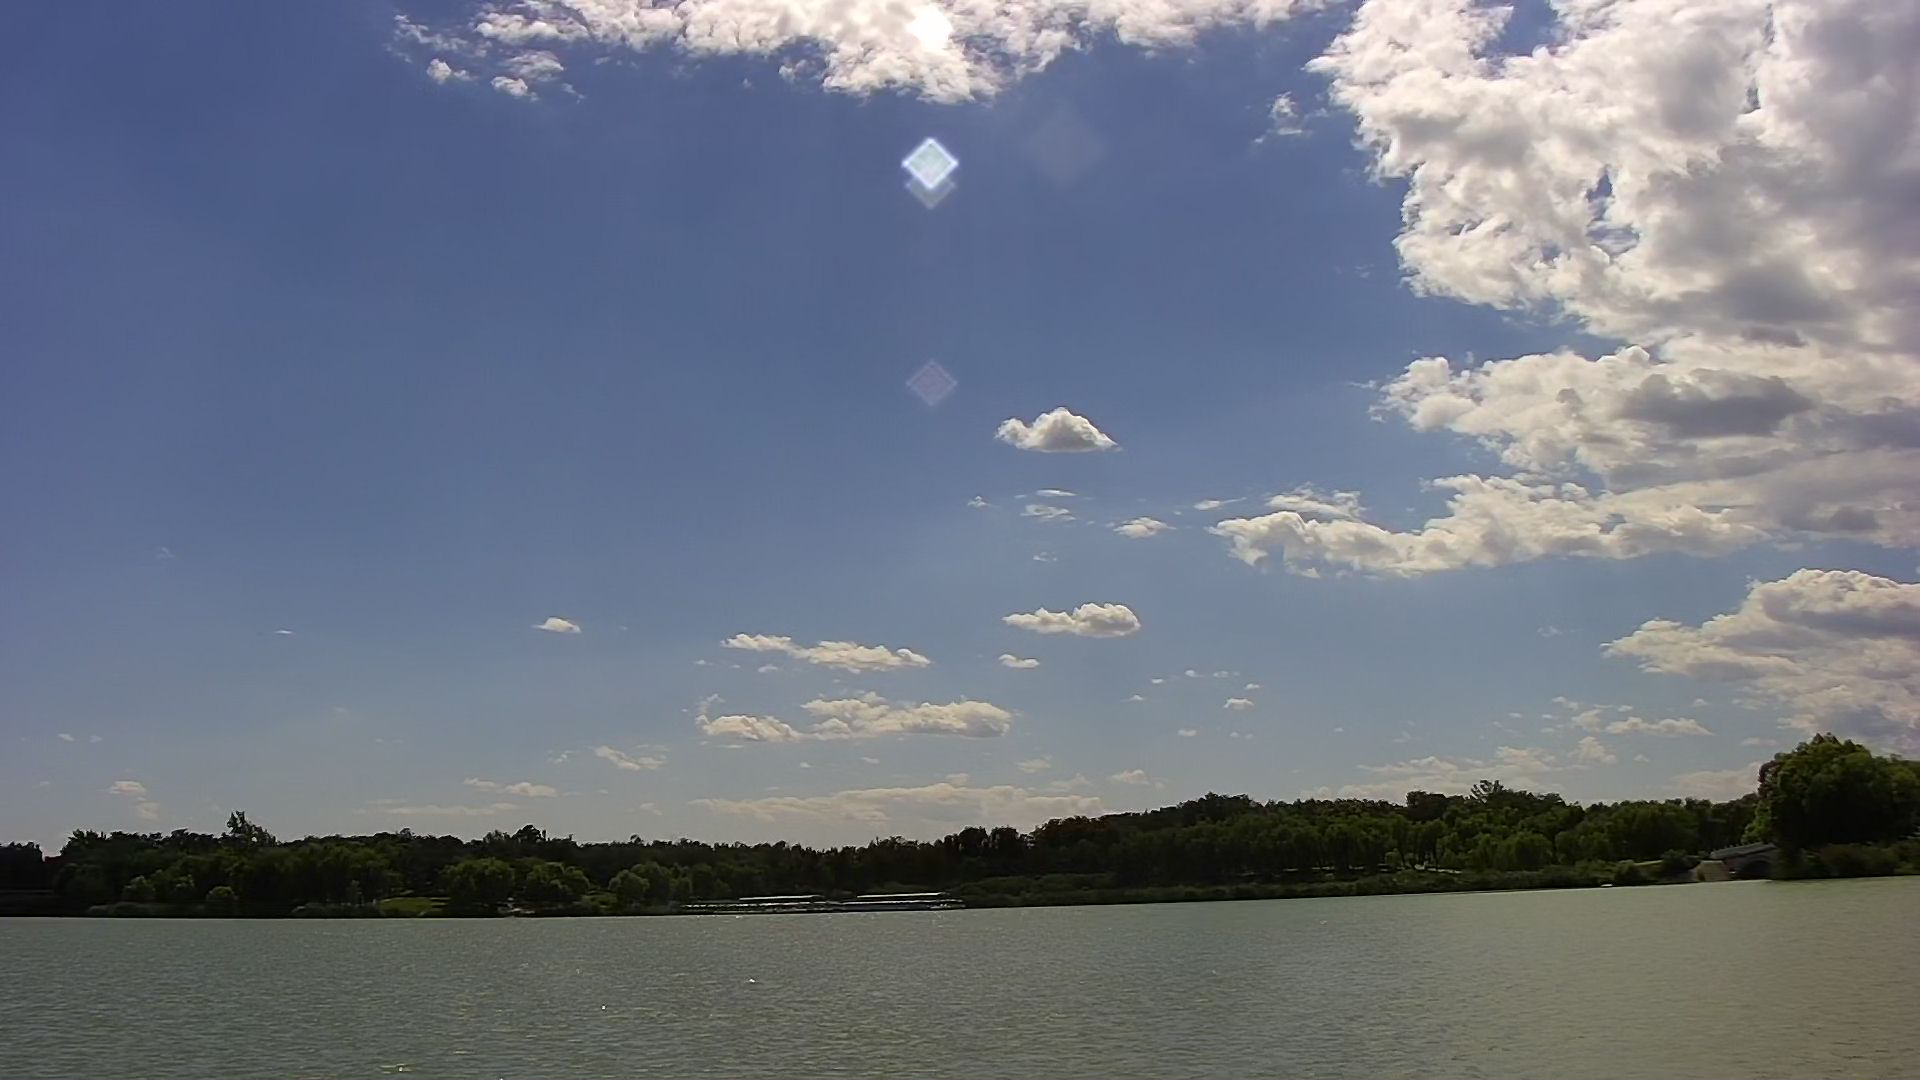harbor: (704, 895, 931, 910)
